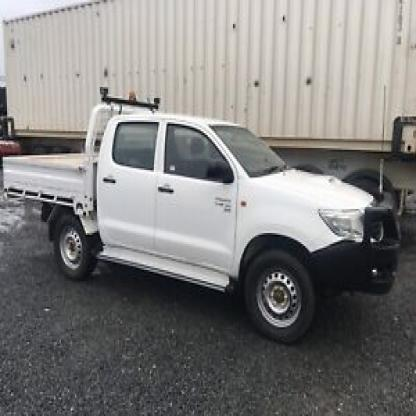light_vehicle: (18, 81, 392, 342)
